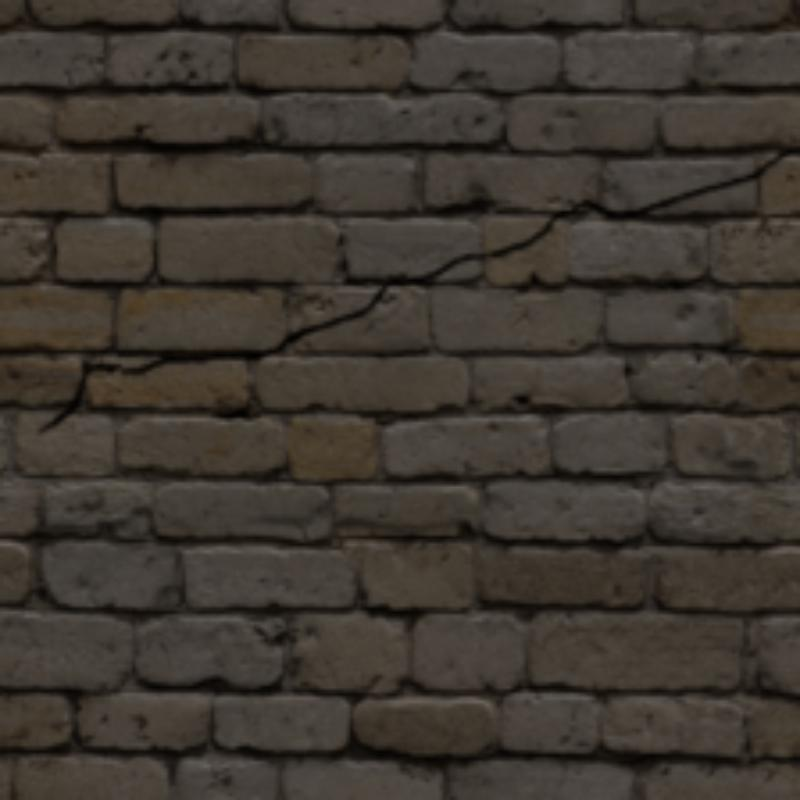pothole: (39, 146, 796, 432)
